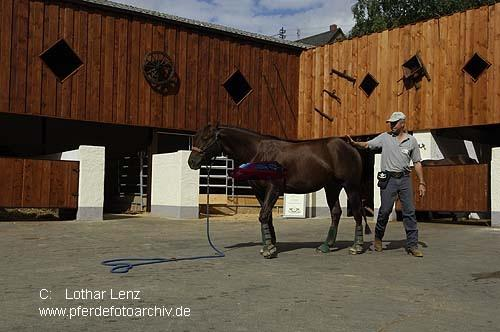tampered: (231, 162, 287, 180)
